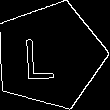L_N: (33, 30, 67, 81)
